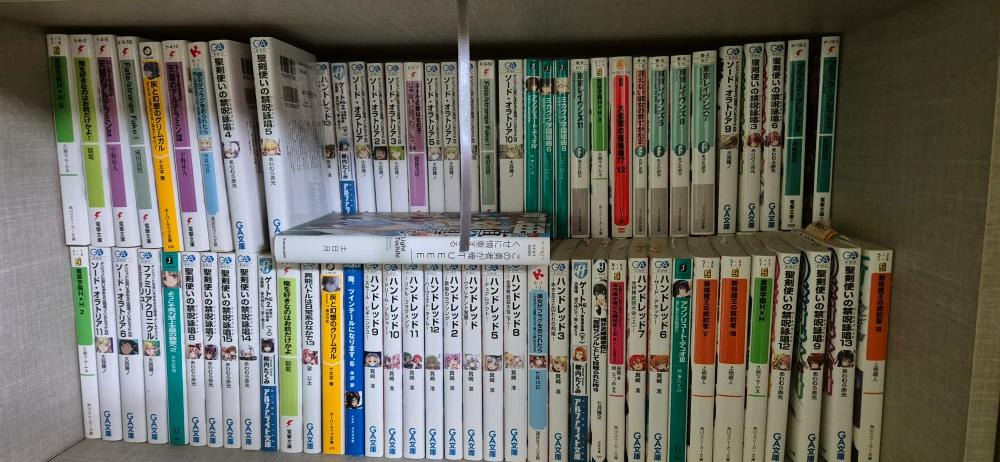book: (44, 30, 894, 460), (281, 203, 548, 264)
